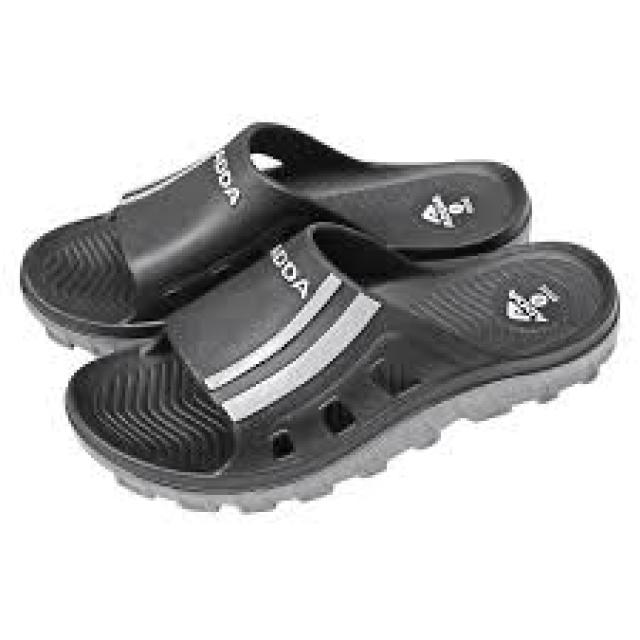shoe: (19, 119, 624, 526), (58, 219, 621, 512)
